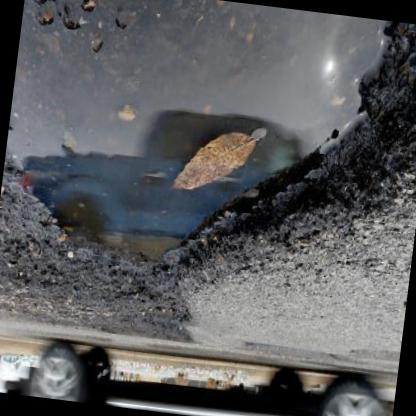pothole: (0, 0, 416, 371)
